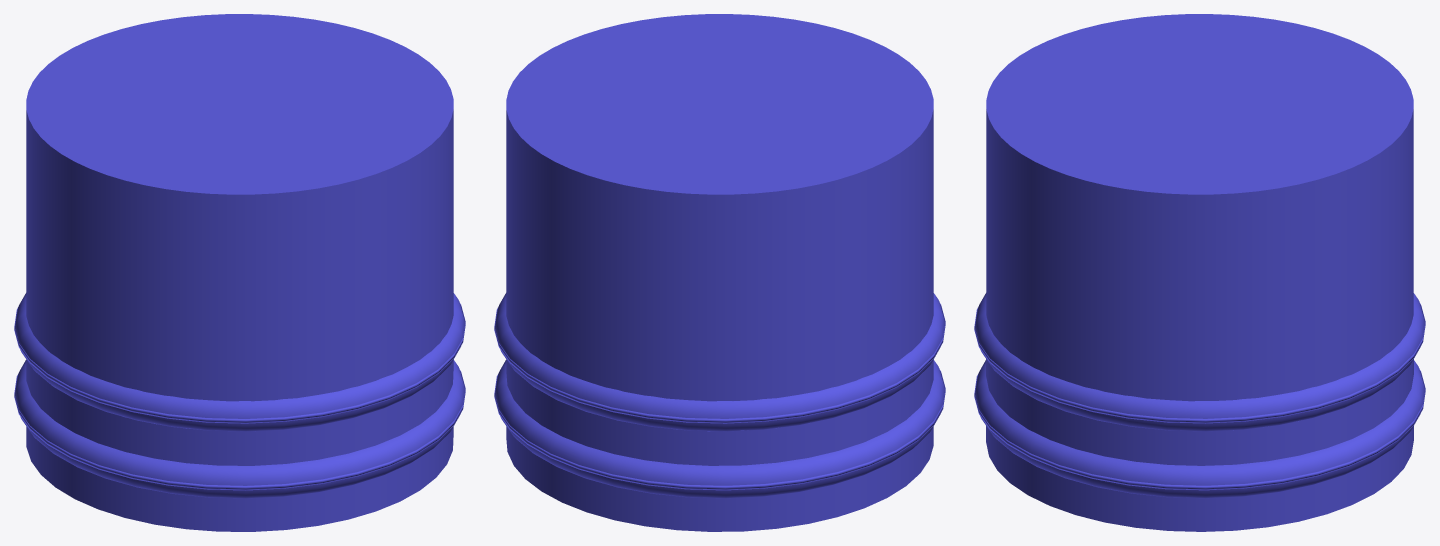
The model's file is bombilla20.obj.
The picture shows the model from 3 angles, left to right: view 1: azimuth 30°, elevation 25°; view 2: azimuth 150°, elevation 25°; view 3: azimuth 270°, elevation 25°; orthographic projection.
Parts seen in each view (by area): view 1: Cylinder001, Cylinder004, Cylinder003, Cylinder002, Cylinder006; view 2: Cylinder001, Cylinder004, Cylinder003, Cylinder002, Cylinder006; view 3: Cylinder001, Cylinder004, Cylinder003, Cylinder002, Cylinder006.
Part boxes in pixels (box(x1,y1,x2,y2)): Cylinder001: box(26, 14, 453, 401); Cylinder004: box(14, 360, 465, 498); Cylinder003: box(26, 360, 453, 465); Cylinder002: box(14, 293, 465, 431); Cylinder006: box(26, 426, 453, 531); Cylinder001: box(506, 14, 933, 401); Cylinder004: box(494, 360, 945, 498); Cylinder003: box(506, 359, 933, 465); Cylinder002: box(494, 293, 945, 431); Cylinder006: box(506, 426, 933, 531); Cylinder001: box(986, 14, 1413, 401); Cylinder004: box(974, 360, 1425, 498); Cylinder003: box(986, 359, 1413, 465); Cylinder002: box(974, 293, 1425, 431); Cylinder006: box(986, 426, 1413, 531).
Bounding box in the file's own units: 72.22 × 59.56 × 72.21.
